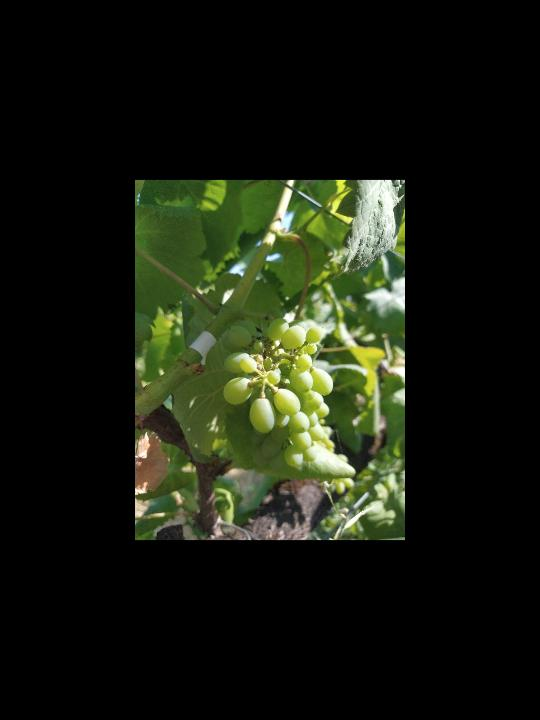grape: (217, 313, 334, 472)
